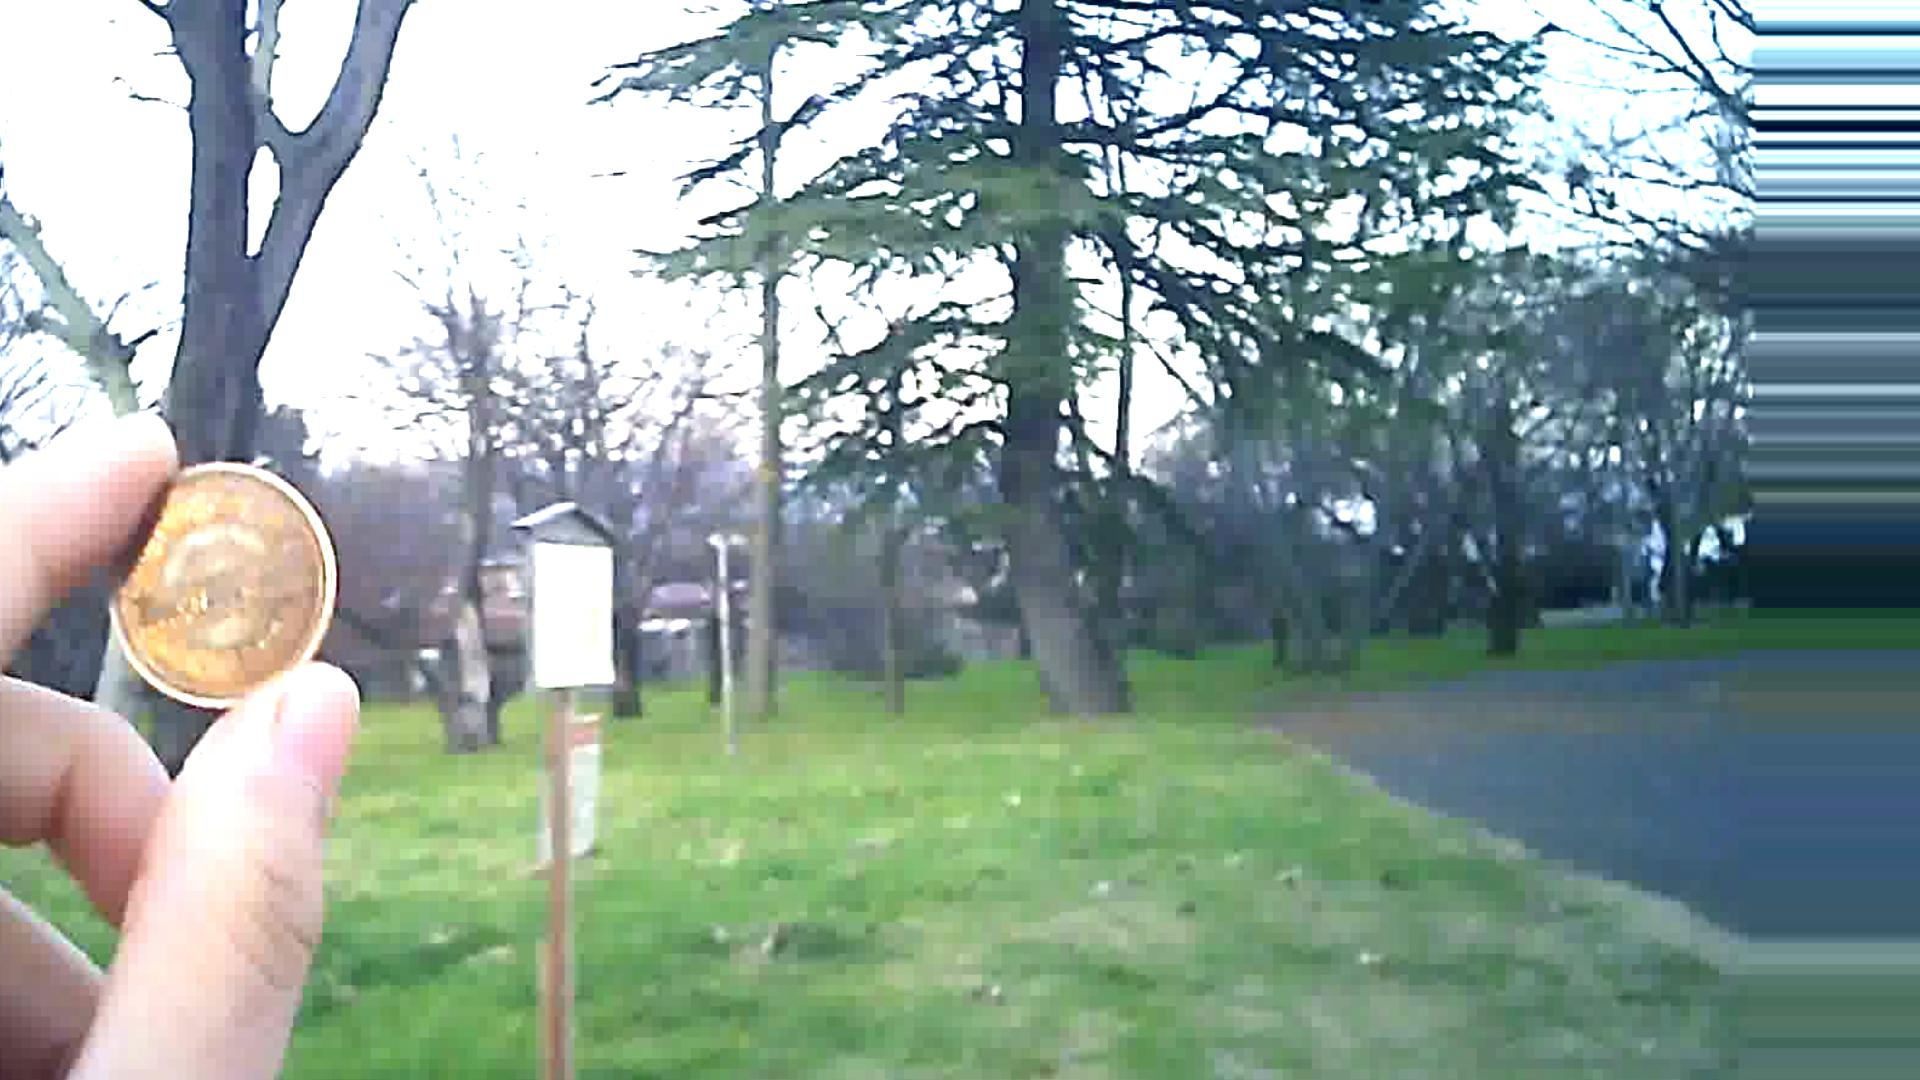10 Yen: (87, 458, 330, 712)
